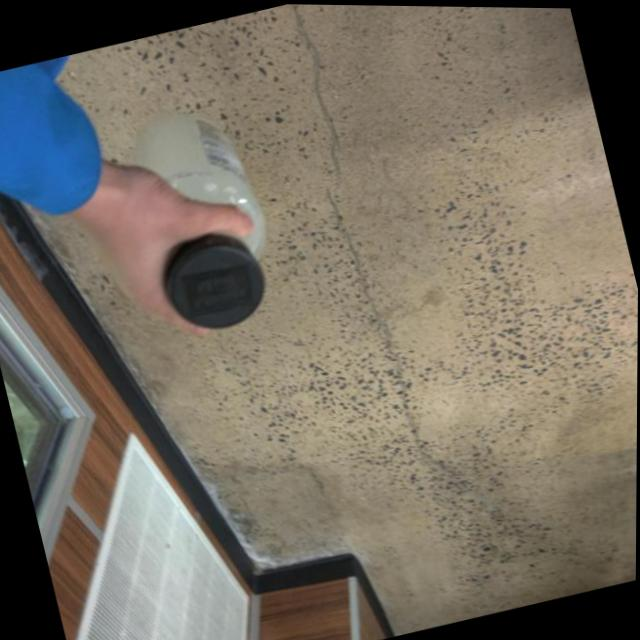Juice: (111, 84, 314, 354)
